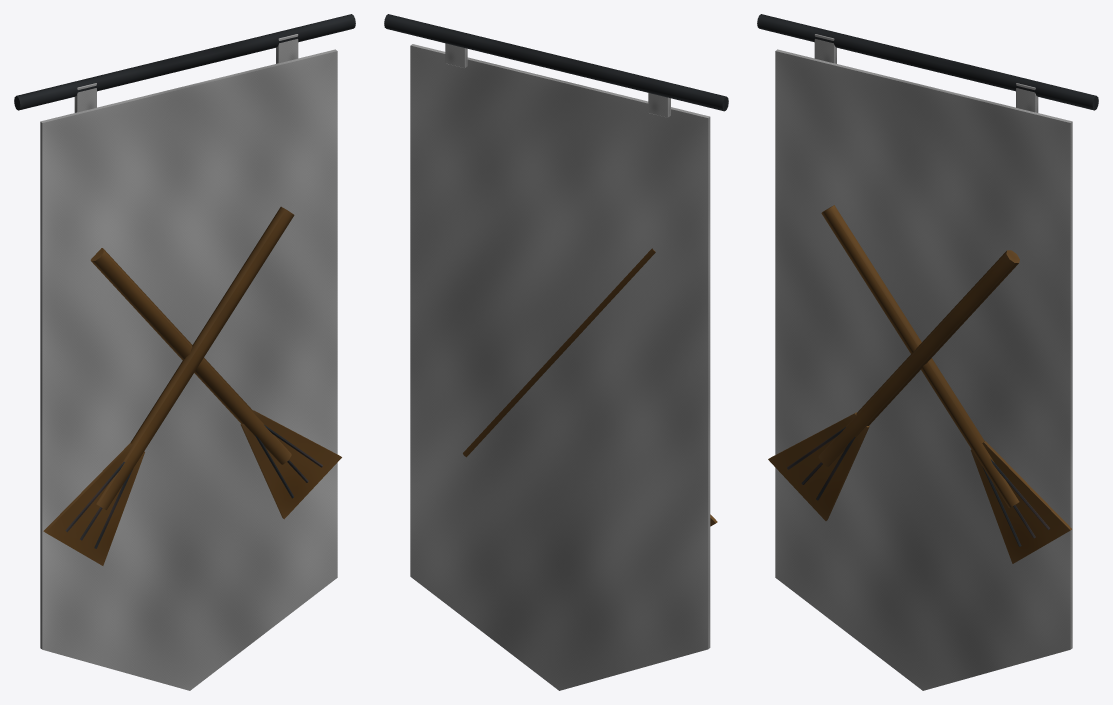
The model's file is Furn_Banner_Broom.fbx.
3 renders of one model, left to right at view 1: azimuth 30°, elevation 25°; view 2: azimuth 150°, elevation 25°; view 3: azimuth 330°, elevation 25°, orthographic.
Parts seen in each view (by area): view 1: Furn_Banner_Broom; view 2: Furn_Banner_Broom; view 3: Furn_Banner_Broom.
Boxes of the visible parts, x1,y1,x2,y2 form: Furn_Banner_Broom: (14, 14, 355, 690); Furn_Banner_Broom: (384, 14, 728, 690); Furn_Banner_Broom: (757, 14, 1098, 690).
Bounding box in the file's own units: 1 × 1.8 × 0.08.
3 materials, 3 textured.
